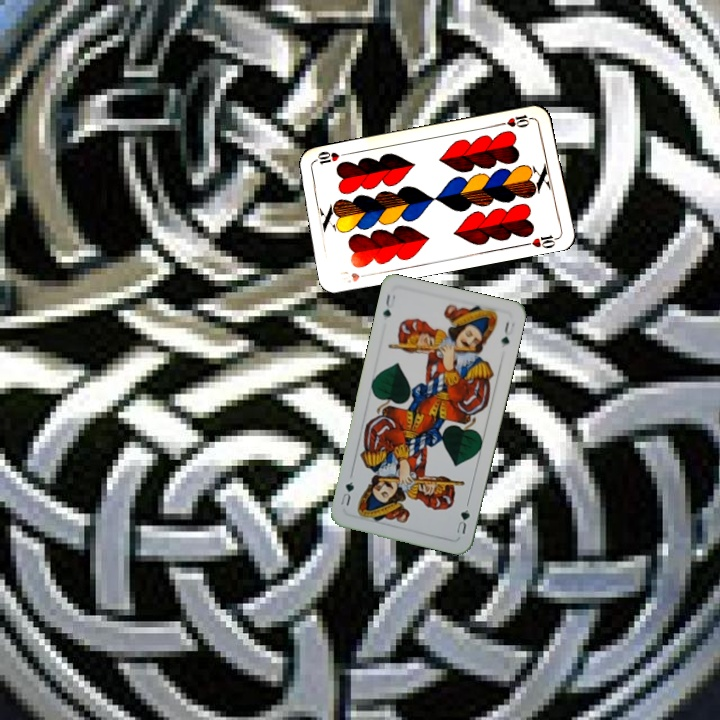GU: (452, 505, 472, 536), (379, 290, 398, 320)
H10: (496, 110, 537, 130), (337, 269, 374, 285)
